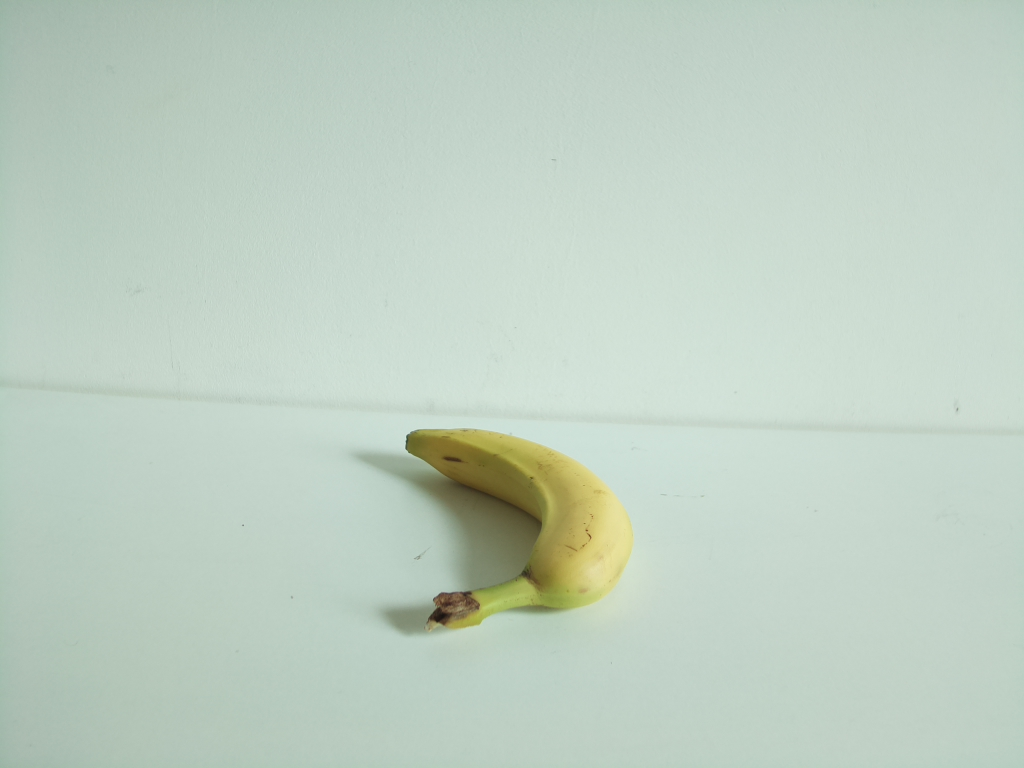banana: (405, 428, 633, 635)
